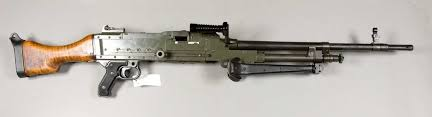gun: (8, 20, 416, 97)
